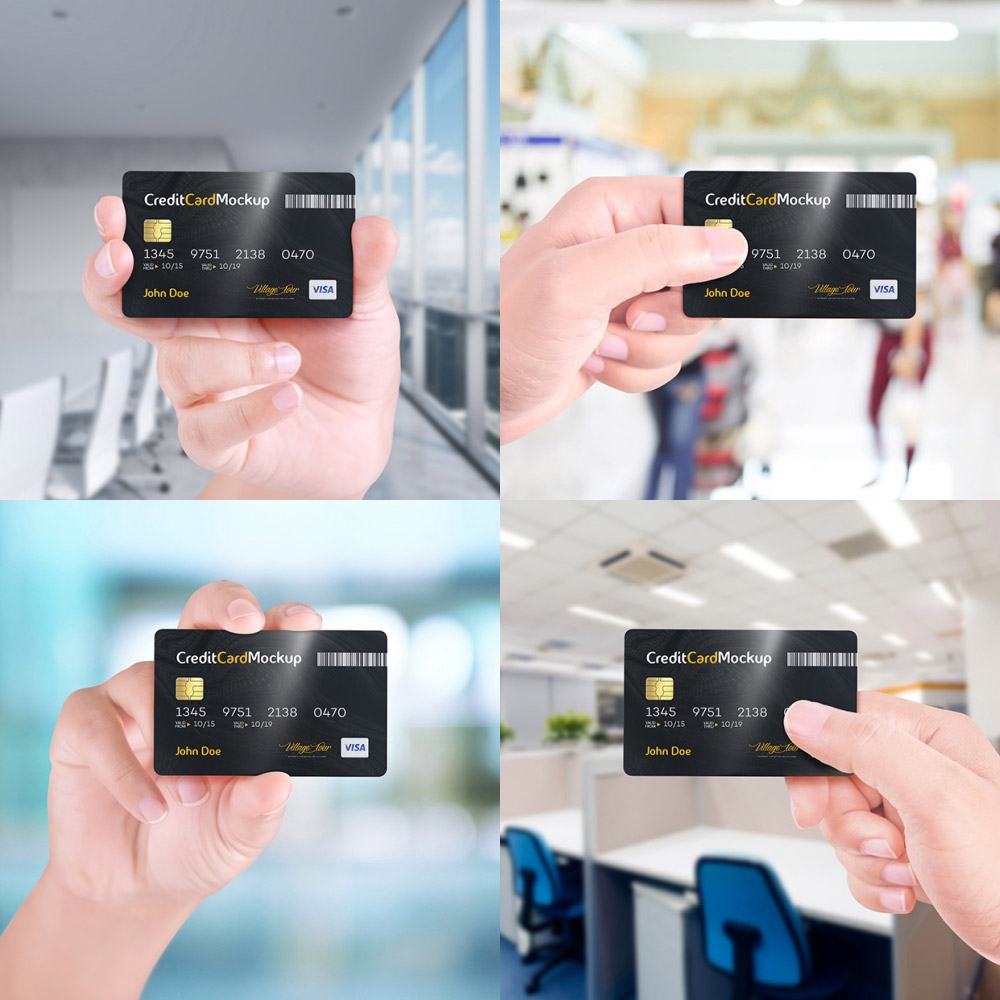tarjeta: (152, 626, 391, 781), (681, 167, 919, 322), (622, 626, 860, 780), (121, 168, 356, 320)
